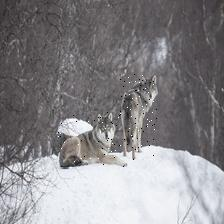WOLF: (58, 113, 128, 169), (120, 74, 158, 160)
